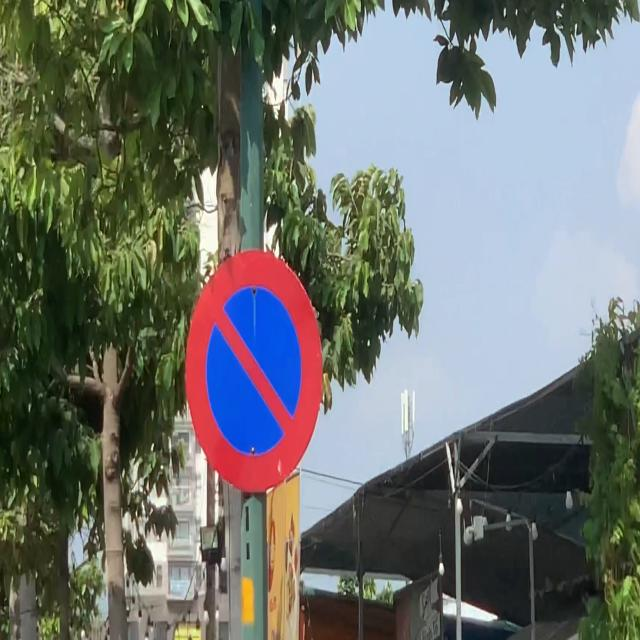Cam do: (184, 248, 324, 497)
